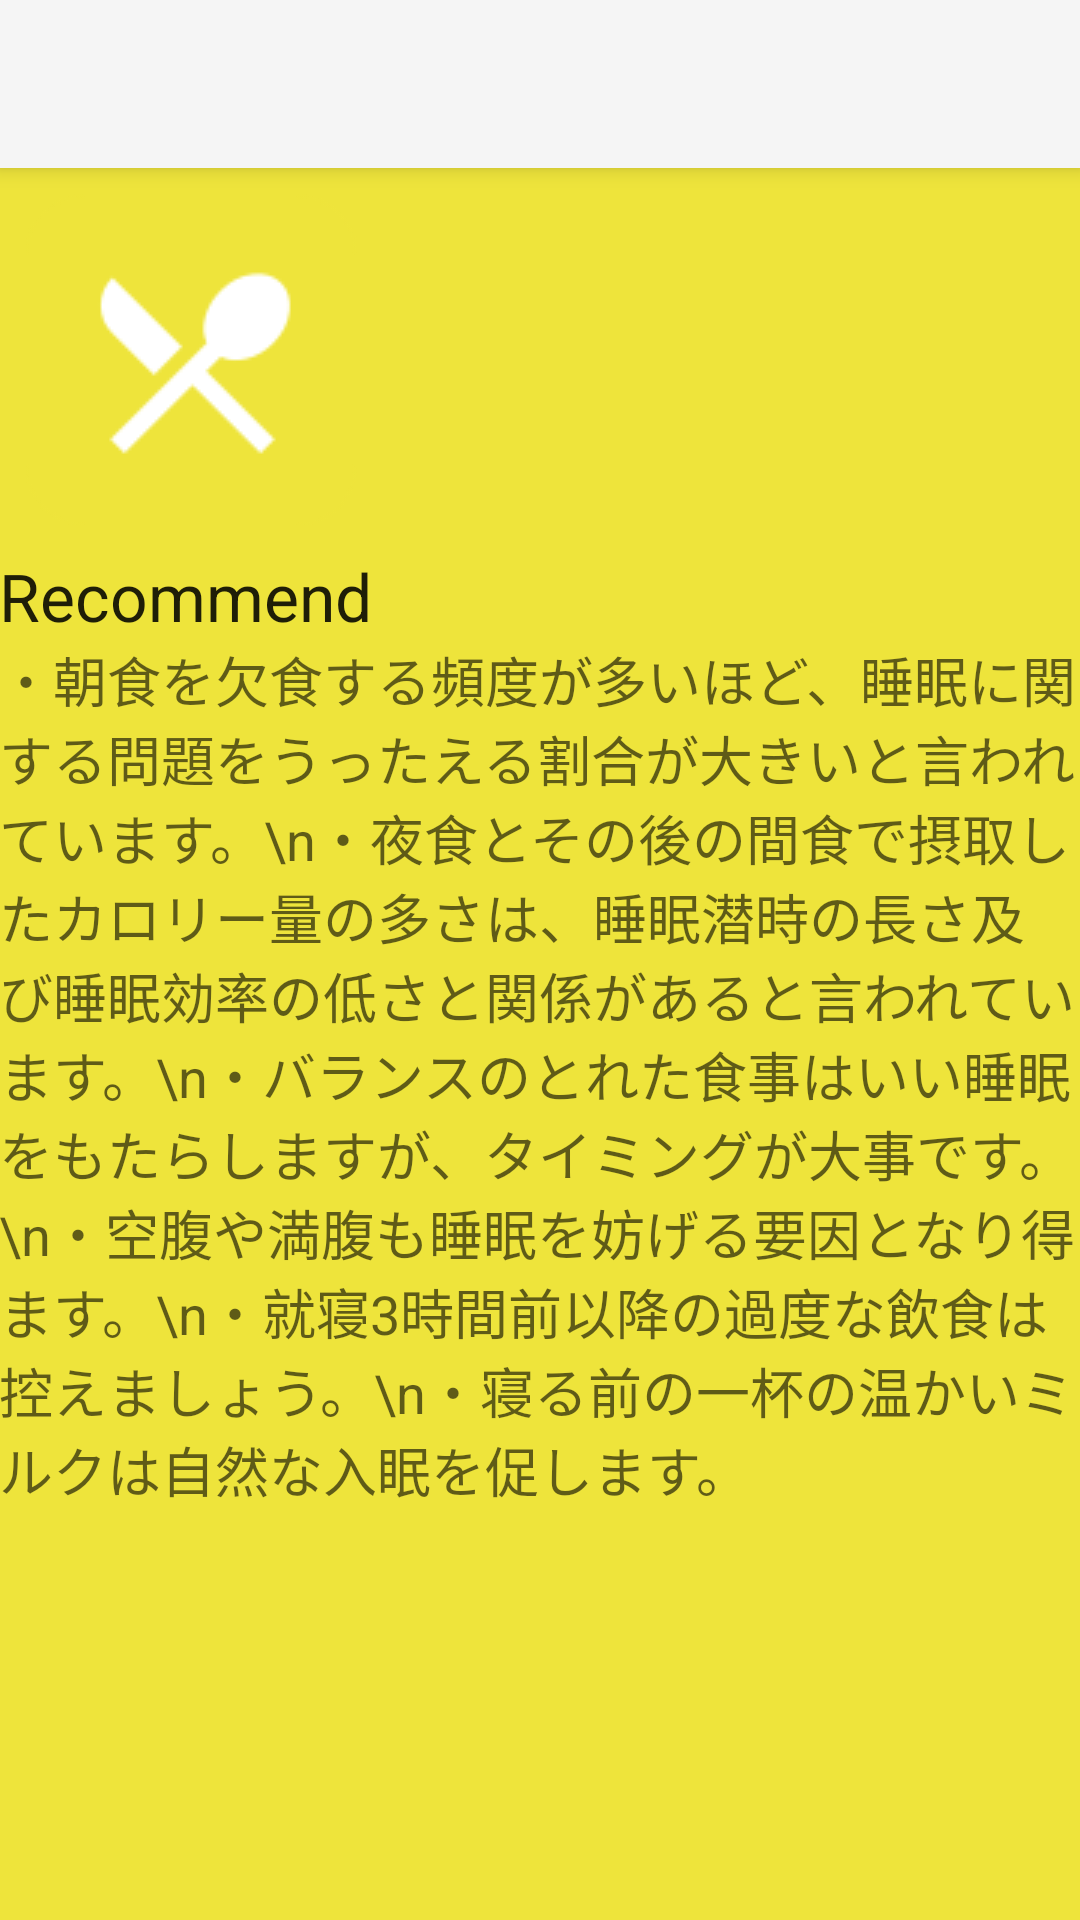

Icon bounding boxes for this 1080px×1920px phone screenshot, format [left=x1, top=y1, right=x2, bottom=y2]:
eat top: [left=100, top=272, right=291, bottom=454]
